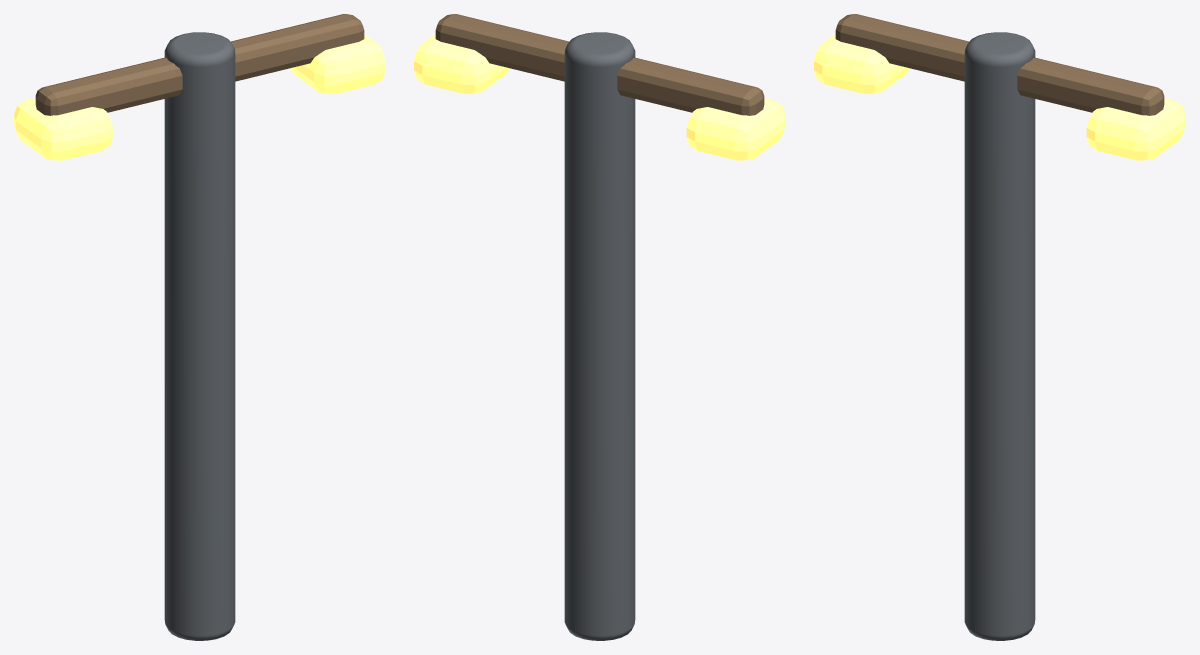
The picture shows the model from 3 angles, left to right: view 1: azimuth 30°, elevation 25°; view 2: azimuth 150°, elevation 25°; view 3: azimuth 330°, elevation 25°; orthographic projection.
Parts seen in each view (by area): view 1: LOD1_PED_LIGHT_DOUBLE_Post, LOD1_PED_LIGHT_DOUBLE_Arm, LOD1_PED_LIGHT_DOUBLE_Glow, LOD1_PED_LIGHT_DOUBLE_Glow.001; view 2: LOD1_PED_LIGHT_DOUBLE_Post, LOD1_PED_LIGHT_DOUBLE_Arm, LOD1_PED_LIGHT_DOUBLE_Glow, LOD1_PED_LIGHT_DOUBLE_Glow.001; view 3: LOD1_PED_LIGHT_DOUBLE_Post, LOD1_PED_LIGHT_DOUBLE_Arm, LOD1_PED_LIGHT_DOUBLE_Glow.001, LOD1_PED_LIGHT_DOUBLE_Glow.
Boxes of the visible parts, box(x1,y1,x2,y2) form: LOD1_PED_LIGHT_DOUBLE_Post: box(164, 32, 235, 640); LOD1_PED_LIGHT_DOUBLE_Arm: box(35, 14, 364, 115); LOD1_PED_LIGHT_DOUBLE_Glow: box(14, 98, 113, 160); LOD1_PED_LIGHT_DOUBLE_Glow.001: box(290, 34, 385, 94); LOD1_PED_LIGHT_DOUBLE_Post: box(564, 32, 635, 640); LOD1_PED_LIGHT_DOUBLE_Arm: box(435, 14, 764, 115); LOD1_PED_LIGHT_DOUBLE_Glow: box(686, 98, 785, 160); LOD1_PED_LIGHT_DOUBLE_Glow.001: box(414, 34, 509, 94); LOD1_PED_LIGHT_DOUBLE_Post: box(964, 32, 1035, 640); LOD1_PED_LIGHT_DOUBLE_Arm: box(835, 14, 1164, 115); LOD1_PED_LIGHT_DOUBLE_Glow.001: box(1086, 98, 1185, 160); LOD1_PED_LIGHT_DOUBLE_Glow: box(814, 34, 909, 94).
Size of what is drawn, in the model's own units: 1.56 by 2.55 by 0.34.
